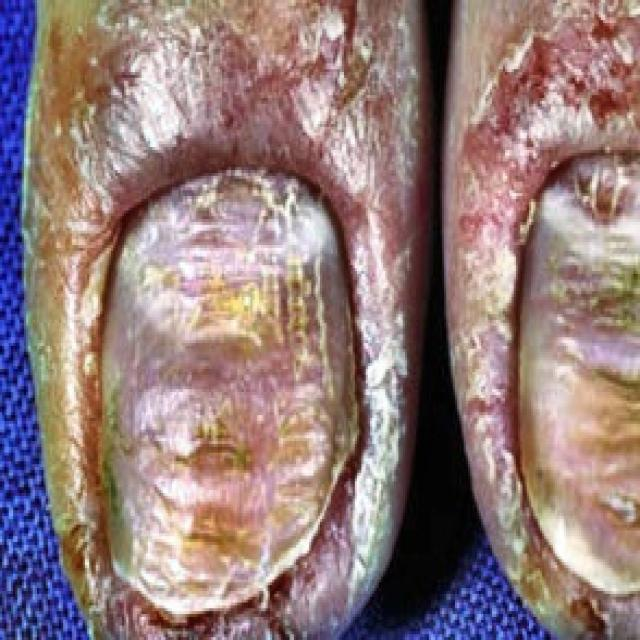Tinea Ringworm Candidiasis and other Fungal Infections: (46, 23, 638, 629)
